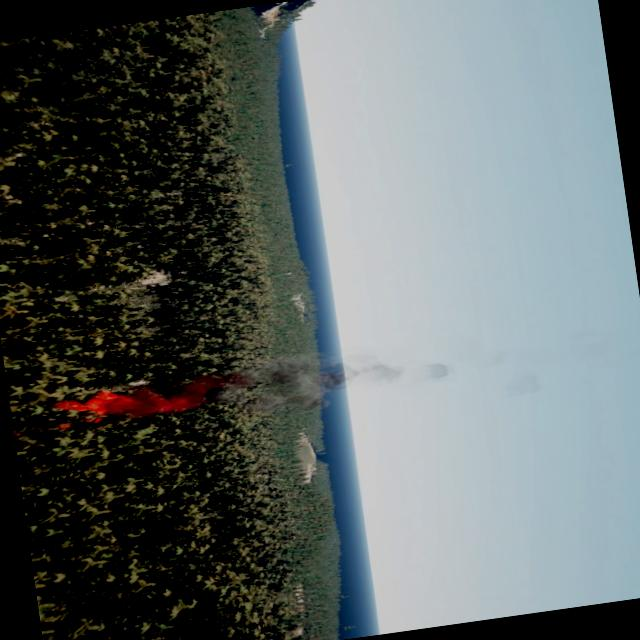fire: (45, 376, 192, 444)
smoke: (190, 326, 546, 442)
